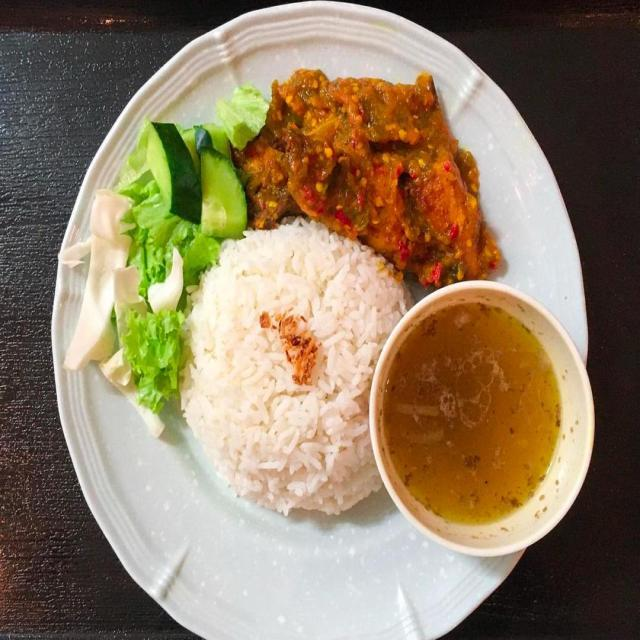Chicken: (227, 71, 506, 293)
Plate: (62, 3, 586, 359), (51, 255, 516, 639)
Rice: (179, 224, 414, 515)
Vegetables: (57, 82, 275, 444)
